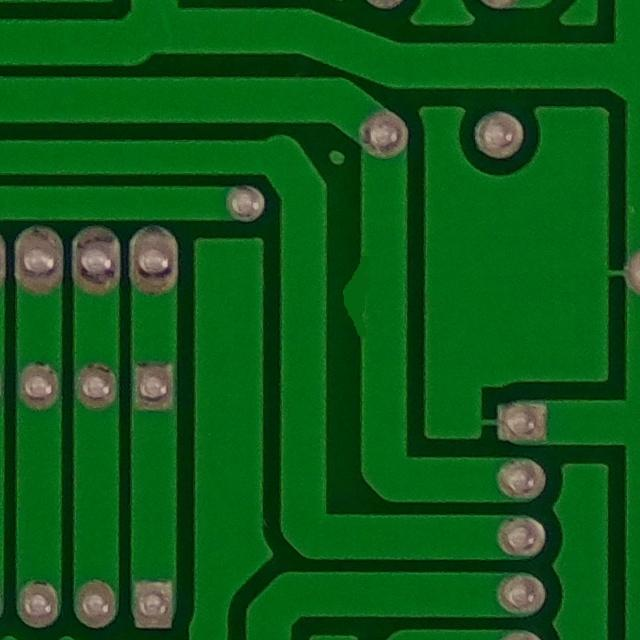spur: (339, 246, 388, 351)
